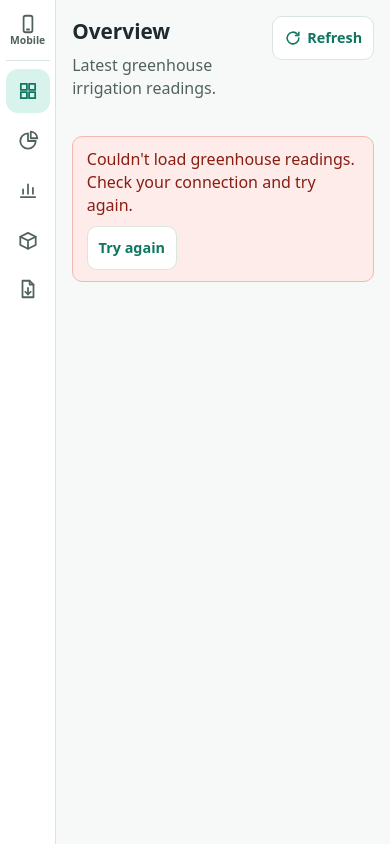
Test: the icon rail › switches pages in the app and moves the selected state
Click the link named "Overview": click(28, 91) [6,69,50,113]
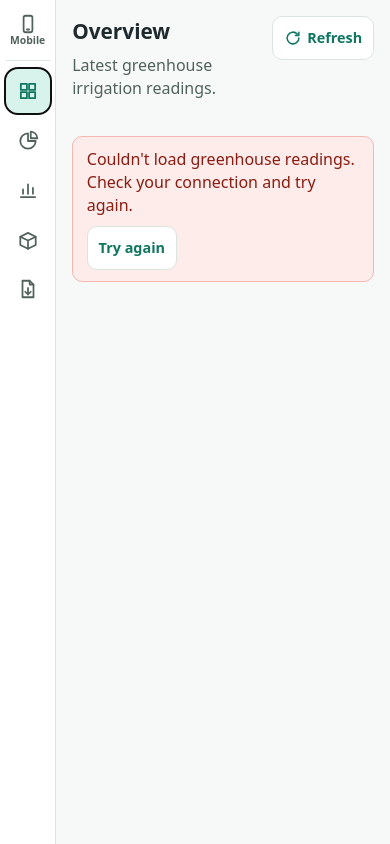
Expected: the heading "Overview" is shown, [72,17,170,45]
Click the link named "Yield by Color": click(28, 141) [17,130,39,152]
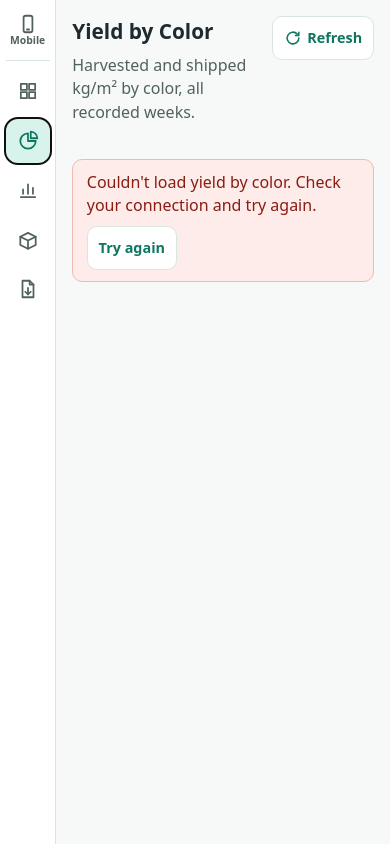
Now the heading "Yield by Color" is shown, box [72,17,214,45]
Click the link named "Yield": click(28, 190) [17,179,39,201]
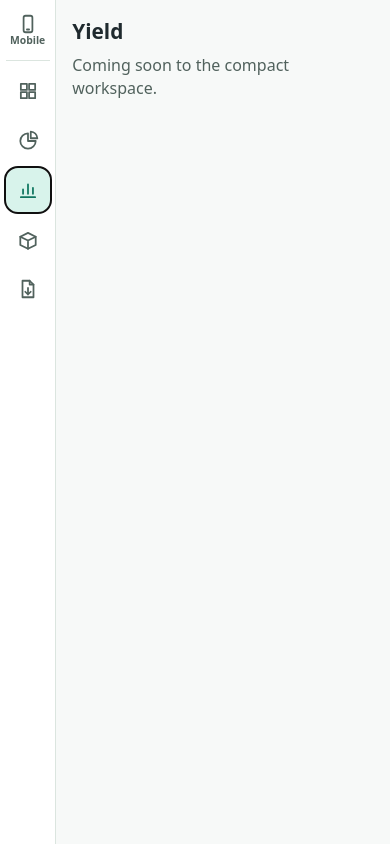
Now the heading "Yield" is shown, box [72,17,123,45]
Click the link named "Cases": click(28, 240) [17,229,39,251]
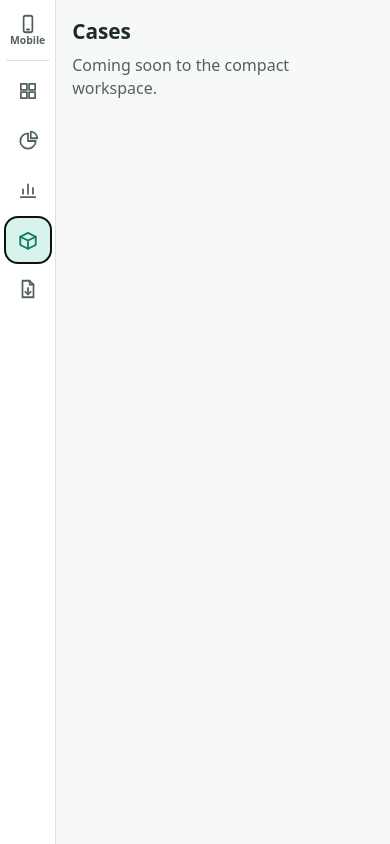
Now the heading "Cases" is shown, box [72,17,131,45]
Click the link named "CSV Imports": click(28, 289) [17,278,39,300]
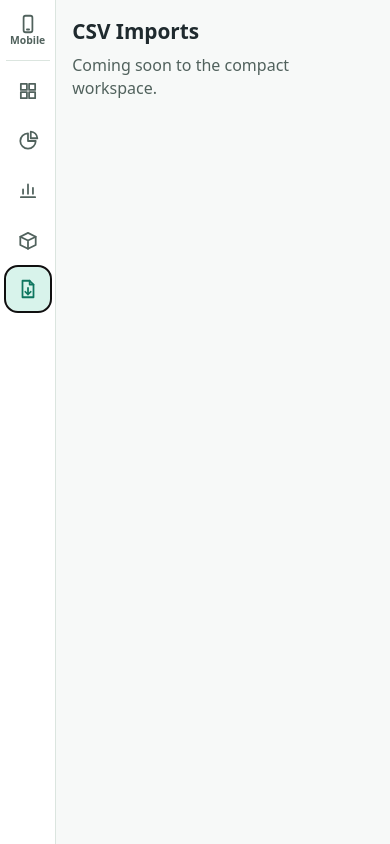
Now the heading "CSV Imports" is shown, box [72,17,199,45]
